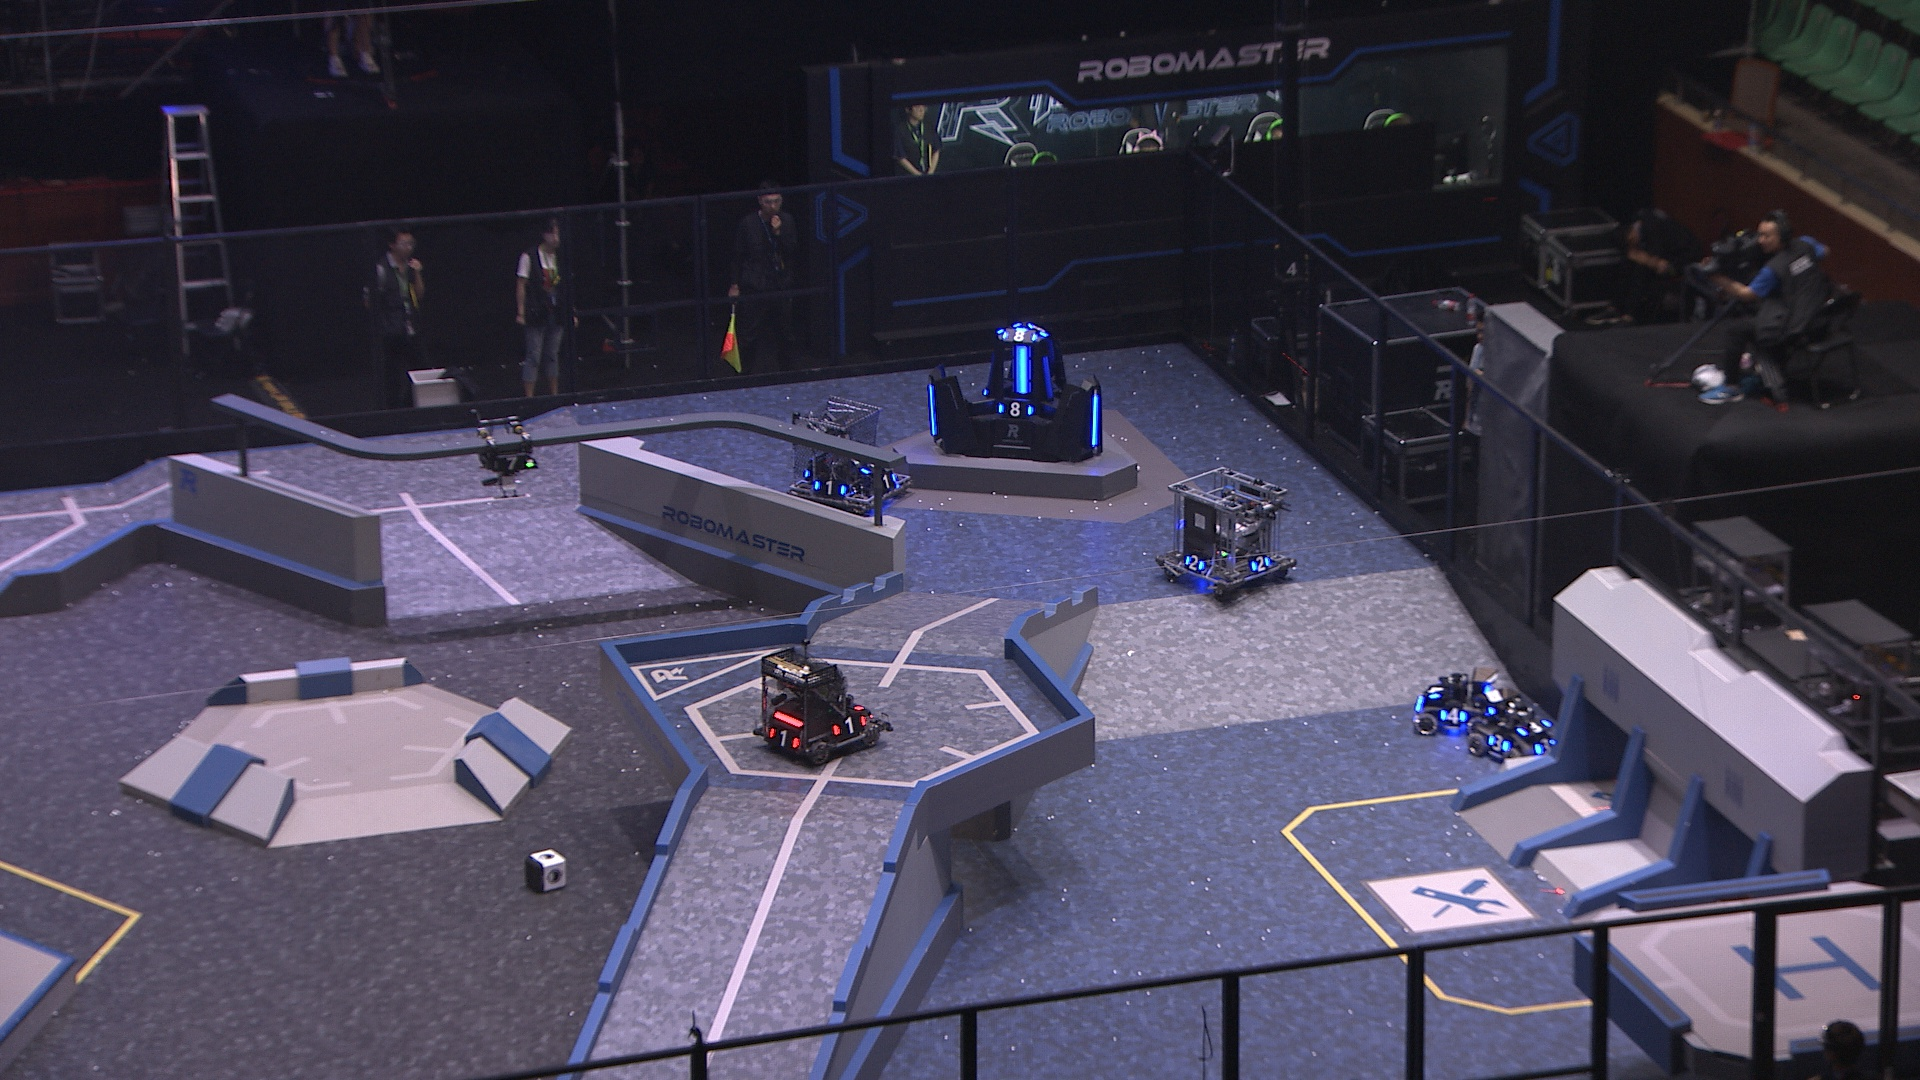armor: (1011, 342, 1035, 396), (922, 381, 940, 436), (764, 725, 800, 752), (491, 452, 533, 473), (1038, 356, 1058, 400), (832, 712, 866, 737), (1088, 389, 1102, 447), (811, 476, 847, 498), (1518, 713, 1551, 737), (998, 400, 1036, 418), (1437, 704, 1468, 727), (1487, 731, 1513, 756), (1002, 324, 1036, 342), (1532, 733, 1557, 756), (874, 469, 901, 491), (1247, 555, 1273, 575), (1425, 679, 1447, 702), (1182, 555, 1207, 572), (1029, 322, 1048, 338)
base: (916, 320, 1106, 463)
car: (1154, 462, 1298, 600), (746, 637, 897, 766), (781, 386, 913, 513), (1468, 684, 1561, 764), (1410, 665, 1506, 737)
watcher: (467, 405, 541, 500)
